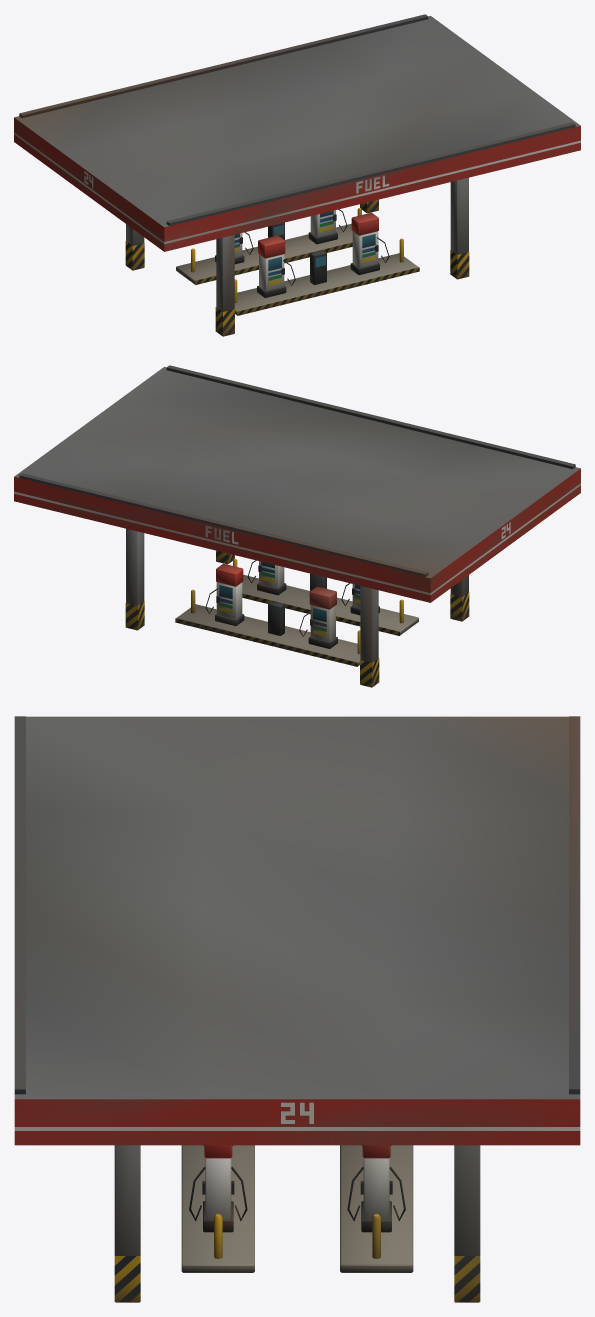
Rendered from gas_station.glb.
The picture shows the model from 3 angles, top to bottom: view 1: azimuth 30°, elevation 25°; view 2: azimuth 150°, elevation 25°; view 3: azimuth 270°, elevation 25°; orthographic projection. The views are drawn at different scales.
Parts seen in each view (by area): view 1: GasStation; view 2: GasStation; view 3: GasStation.
Part boxes in pixels (box(x1,y1,x2,y2)): GasStation: box(14, 14, 580, 336); GasStation: box(14, 365, 580, 687); GasStation: box(14, 716, 580, 1302).
Size of the model in its own units: 16.02 by 5.6 by 10.02.
